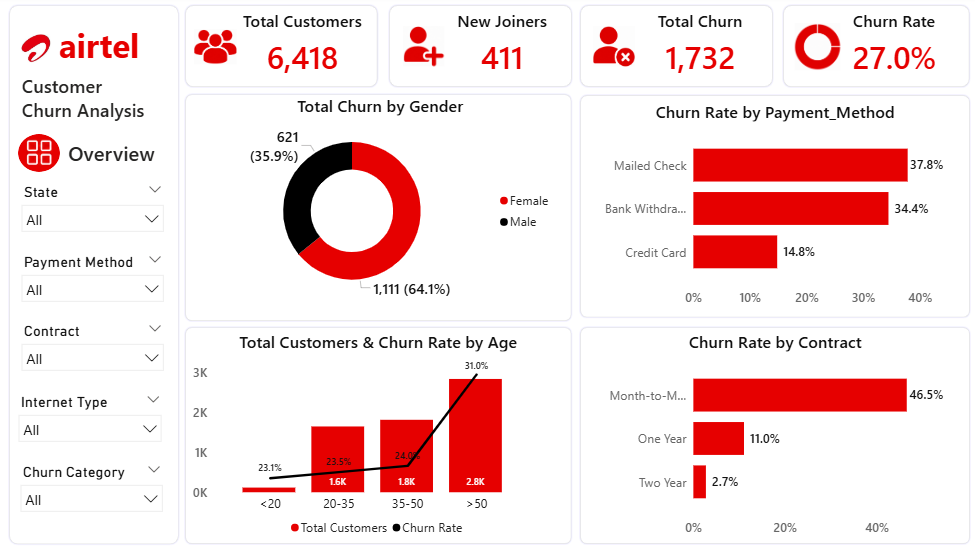

The dashboard page shown, as its layout file describes it:
{"tool":"powerbi","page":{"name":"Overview","canvas":[1280,720],"ordinal":0},"visuals":[{"type":"shape","box":[11.8,10.3,225,708.8],"z":0},{"type":"shape","box":[242.6,10.3,255,110.3],"z":1000},{"type":"shape","box":[509.2,10.5,242.2,110],"z":2000},{"type":"shape","box":[759.3,10.5,255.3,110],"z":3000},{"type":"shape","box":[1025,10.3,247.1,110.3],"z":4000},{"type":"card","title":"Total Customers ","fields":{"Values":["All Measures.Total Customers"]},"box":[308.8,17.6,176.5,97.1],"z":5000},{"type":"card","title":"New Joiners","fields":{"Values":["All Measures.New Joiners"]},"box":[573.5,17.6,170.6,97.1],"z":6000},{"type":"card","title":"Total Churn","fields":{"Values":["All Measures.Total Churn"]},"box":[832.4,17.6,170.6,97.1],"z":7000},{"type":"card","title":"Churn Rate","fields":{"Values":["All Measures.Churn Rate"]},"box":[1086.8,17.6,170.6,97.1],"z":8000},{"type":"shape","box":[242.6,126.5,508.8,300],"z":9000},{"type":"donutChart","fields":{"Category":["prod_churn.Gender"],"Y":["All Measures.Total Churn"]},"box":[264.7,127.9,469.1,277.9],"z":10000},{"type":"shape","box":[242.6,432.4,508.8,286.8],"z":11000},{"type":"lineStackedColumnComboChart","title":"Total Customers & Churn Rate by Age","fields":{"Category":["Mapping_AgeGrp.Age Group"],"Y":["All Measures.Total Customers"],"Y2":["All Measures.Churn Rate"]},"box":[248.5,436.8,495.6,279.4],"z":12000},{"type":"shape","box":[758.8,127.9,513.2,294.1],"z":13000},{"type":"clusteredBarChart","fields":{"Category":["prod_churn.Payment_Method"],"Y":["All Measures.Churn Rate"]},"box":[775,136.8,482.4,279.4],"z":14000},{"type":"shape","box":[758.8,432.4,513.2,286.8],"z":15000},{"type":"clusteredBarChart","fields":{"Y":["All Measures.Churn Rate"],"Category":["prod_churn.Contract"]},"box":[775,436.8,482.4,279.4],"z":16000},{"type":"textbox","box":[40,30,180.7,77.2],"z":17000},{"type":"image","box":[22,50,51.4,37.1],"z":18000},{"type":"textbox","box":[24.3,95,200,77.1],"z":19000},{"type":"slicer","fields":{"Values":["prod_churn.State"]},"box":[19.1,239.7,205.9,79.4],"z":20000},{"type":"slicer","fields":{"Values":["prod_churn.Payment_Method"]},"box":[19.1,330.8,205.9,79.4],"z":21000},{"type":"slicer","fields":{"Values":["prod_churn.Contract"]},"box":[19.1,422,205.9,80.9],"z":22000},{"type":"slicer","fields":{"Values":["prod_churn.Internet_Type"]},"box":[16.2,514.6,207.4,79.4],"z":23000},{"type":"slicer","fields":{"Values":["prod_churn.Churn_Category"]},"box":[18.6,605.7,205.7,80],"z":24000},{"type":"image","box":[255.9,35.3,55.9,61.8],"z":25000},{"type":"image","box":[529.4,35.3,54.4,60.3],"z":26000},{"type":"image","box":[1041.2,35.3,61.8,61.8],"z":27000},{"type":"image","box":[777.6,35.3,55,61.5],"z":28000},{"type":"textbox","box":[69.1,182.4,155.9,45.6],"z":29000},{"type":"shape","box":[24.9,180.7,55,49.7],"z":30000},{"type":"image","box":[32.7,187.2,40.6,35.3],"z":31000}]}

Visuals, with their boxes in screenshot pixels (x1, y1, x2, y2), scaled from the page's 1280x720 canvas onto the 975x546 screenshot:
shape: x1=9 y1=8 x2=180 y2=545
shape: x1=185 y1=8 x2=379 y2=91
shape: x1=388 y1=8 x2=572 y2=91
shape: x1=578 y1=8 x2=773 y2=91
shape: x1=781 y1=8 x2=969 y2=91
"Total Customers " card: x1=235 y1=13 x2=370 y2=87
"New Joiners" card: x1=437 y1=13 x2=567 y2=87
"Total Churn" card: x1=634 y1=13 x2=764 y2=87
"Churn Rate" card: x1=828 y1=13 x2=958 y2=87
shape: x1=185 y1=96 x2=572 y2=323
donutChart - prod_churn.Gender x All Measures.Total Churn: x1=202 y1=97 x2=559 y2=308
shape: x1=185 y1=328 x2=572 y2=545
"Total Customers & Churn Rate by Age" lineStackedColumnComboChart: x1=189 y1=331 x2=567 y2=543
shape: x1=578 y1=97 x2=969 y2=320
clusteredBarChart - prod_churn.Payment_Method x All Measures.Churn Rate: x1=590 y1=104 x2=958 y2=316
shape: x1=578 y1=328 x2=969 y2=545
clusteredBarChart - All Measures.Churn Rate x prod_churn.Contract: x1=590 y1=331 x2=958 y2=543
textbox: x1=30 y1=23 x2=168 y2=81
image: x1=17 y1=38 x2=56 y2=66
textbox: x1=19 y1=72 x2=171 y2=131
slicer - prod_churn.State: x1=15 y1=182 x2=171 y2=242
slicer - prod_churn.Payment_Method: x1=15 y1=251 x2=171 y2=311
slicer - prod_churn.Contract: x1=15 y1=320 x2=171 y2=381
slicer - prod_churn.Internet_Type: x1=12 y1=390 x2=170 y2=450
slicer - prod_churn.Churn_Category: x1=14 y1=459 x2=171 y2=520
image: x1=195 y1=27 x2=238 y2=74
image: x1=403 y1=27 x2=445 y2=72
image: x1=793 y1=27 x2=840 y2=74
image: x1=592 y1=27 x2=634 y2=73
textbox: x1=53 y1=138 x2=171 y2=173
shape: x1=19 y1=137 x2=61 y2=175
image: x1=25 y1=142 x2=56 y2=169
